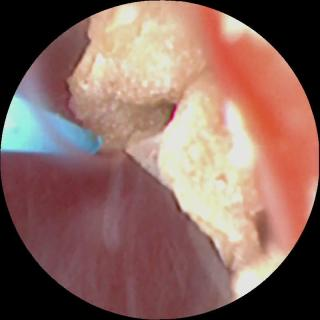fiber: (4, 99, 94, 152)
stone: (68, 3, 281, 291)
tissue: (3, 156, 230, 314)
